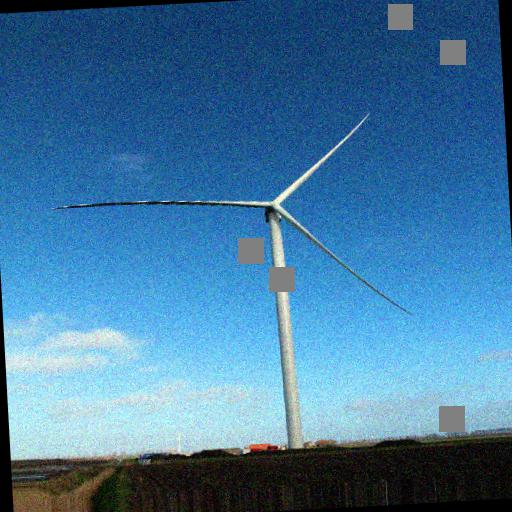wind turbine: (51, 110, 416, 446)
